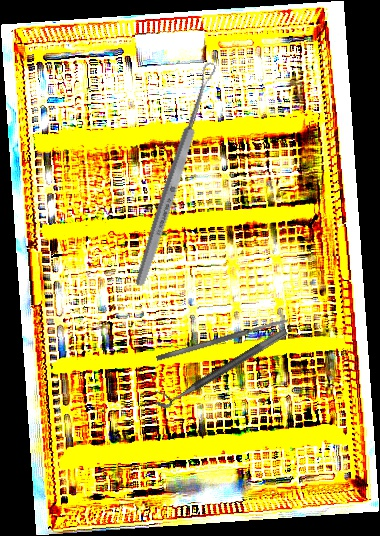Fixation Ring: (149, 316, 289, 414)
Spatula Surgical: (155, 317, 290, 362)
Surgical Spoon: (132, 60, 219, 289)
